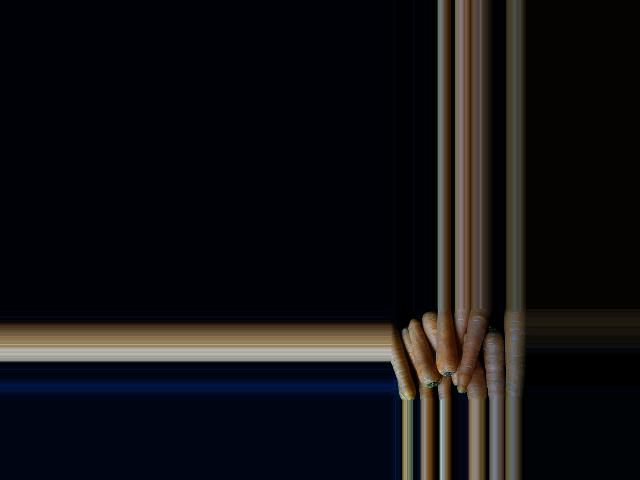carrot: (504, 311, 524, 400)
